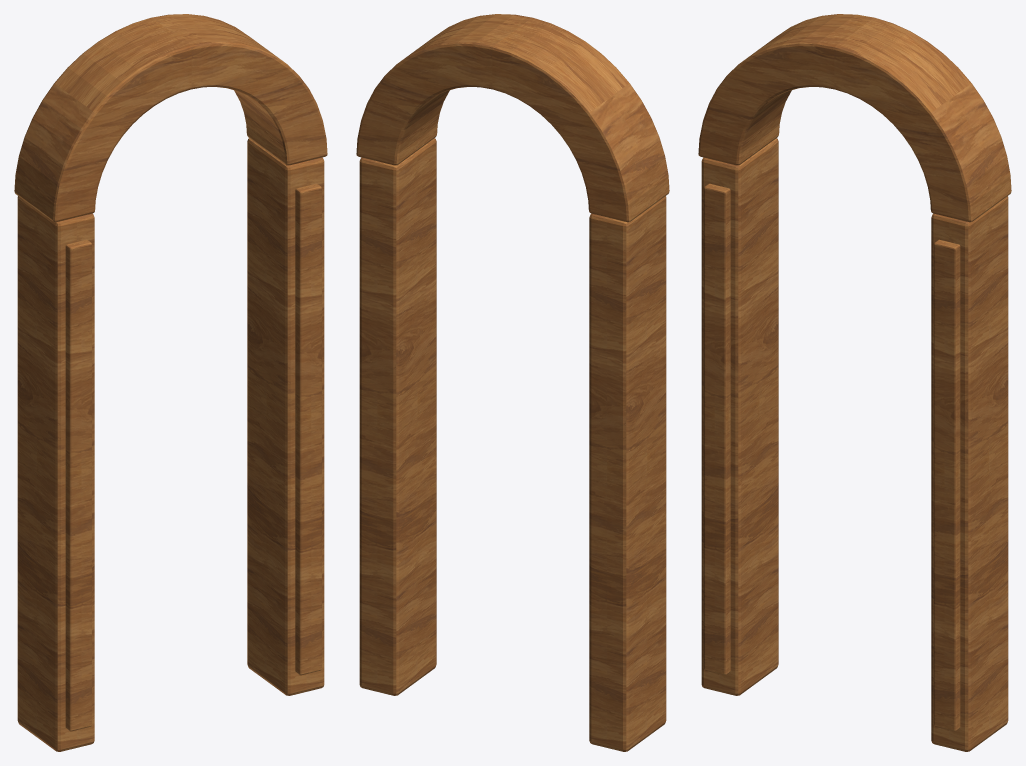
The model's file is WC_CAFE_Entrance_Open_A.glb.
3 renders of one model, left to right at view 1: azimuth 30°, elevation 25°; view 2: azimuth 150°, elevation 25°; view 3: azimuth 330°, elevation 25°, orthographic.
Parts seen in each view (by area): view 1: WC_CAFE_Entrance_Open_A_RenderMesh; view 2: WC_CAFE_Entrance_Open_A_RenderMesh; view 3: WC_CAFE_Entrance_Open_A_RenderMesh.
Part boxes in pixels (left/top/right/bottom): WC_CAFE_Entrance_Open_A_RenderMesh: left=14, top=14, right=327, bottom=751; WC_CAFE_Entrance_Open_A_RenderMesh: left=356, top=14, right=669, bottom=751; WC_CAFE_Entrance_Open_A_RenderMesh: left=698, top=14, right=1011, bottom=751.
Size of the model in its own units: 0.9188 by 2.16 by 0.2675.
Materials: 2 (2 with a texture image).
